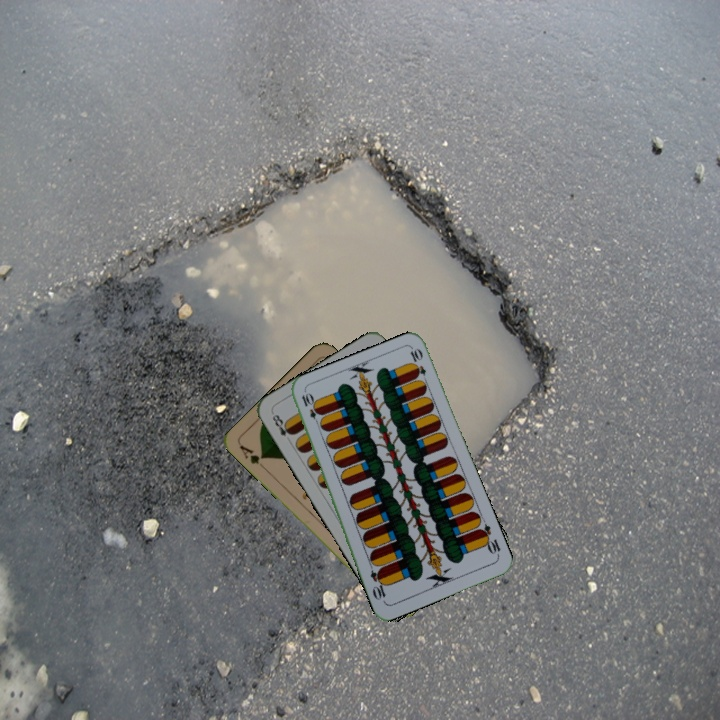E10: (475, 520, 504, 559), (297, 389, 323, 428)
E8: (268, 409, 296, 440)
GA: (235, 441, 267, 467)
